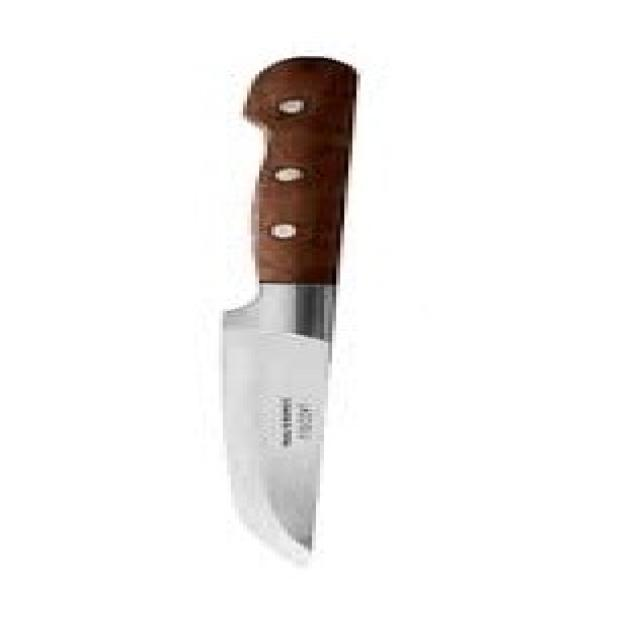knife: (195, 53, 373, 585)
